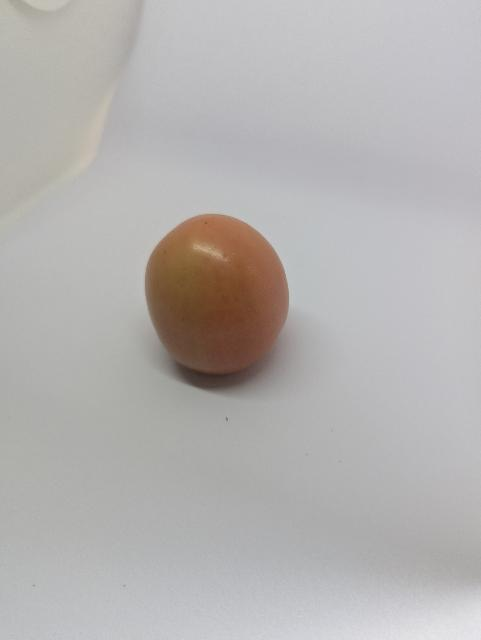turning: (136, 210, 304, 386)
